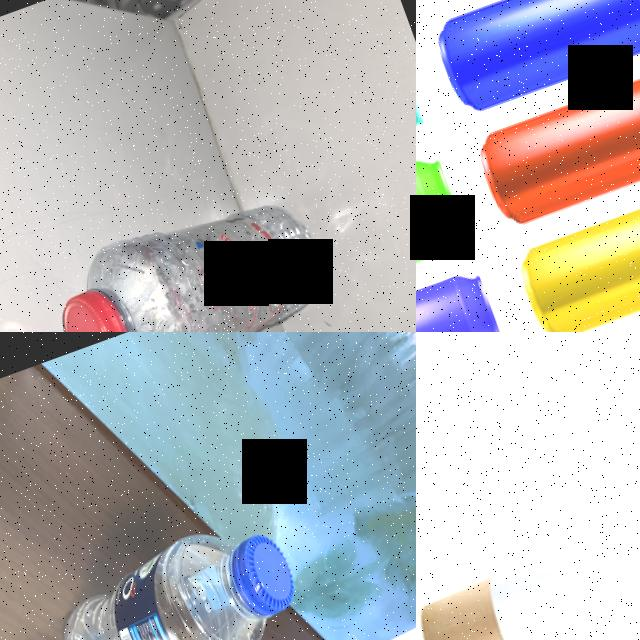bottle: (33, 493, 328, 640), (46, 189, 341, 332)
can: (470, 57, 640, 235), (426, 0, 640, 123), (512, 172, 640, 332), (416, 149, 471, 326), (416, 264, 514, 332)
cup: (416, 440, 640, 640)
